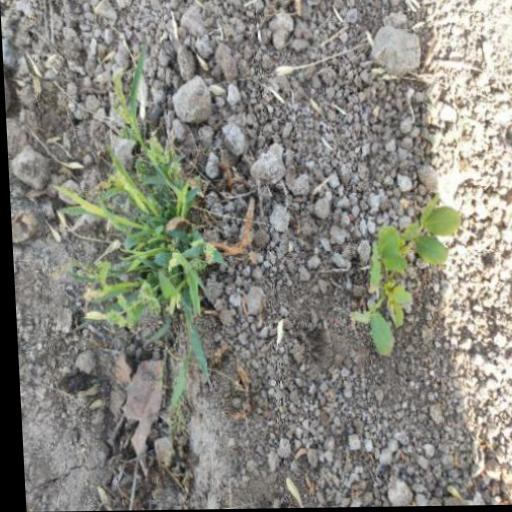weed: (51, 63, 230, 391), (344, 195, 468, 368)
